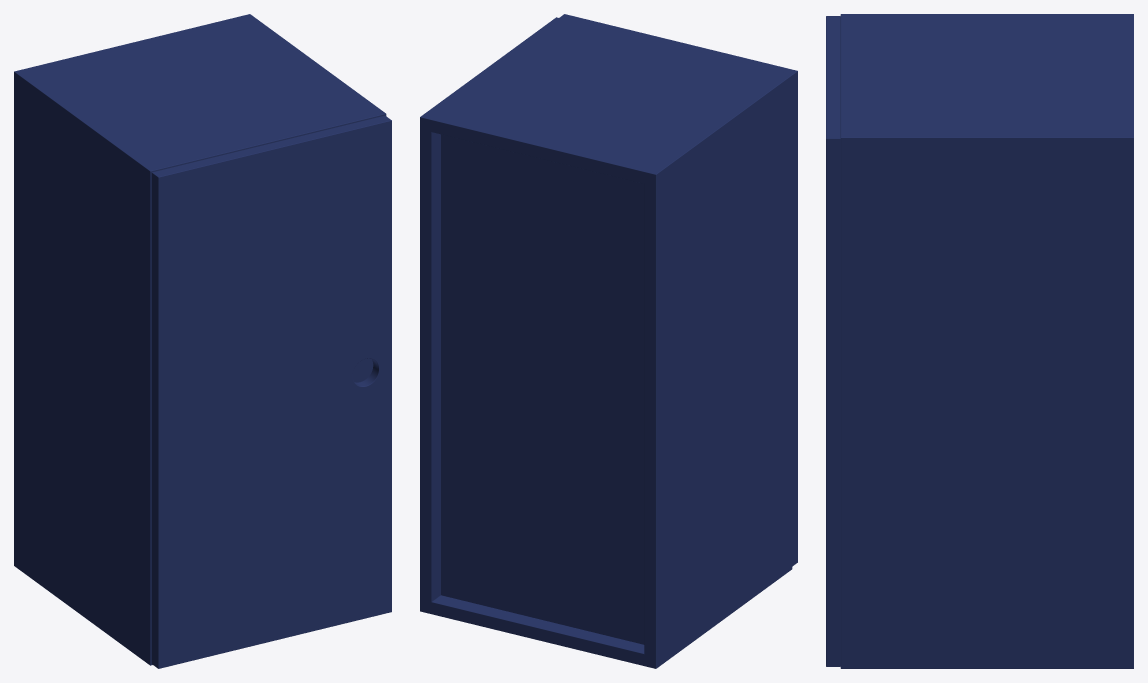
Rendered from MOD_1X2_D_B_DER_AF.glb.
3 views of the same model, side by side, from view 1: azimuth 30°, elevation 25°; view 2: azimuth 150°, elevation 25°; view 3: azimuth 270°, elevation 25° (orthographic). The views are drawn at different scales.
Bounding box in the file's own units: 360 × 720 × 378.
